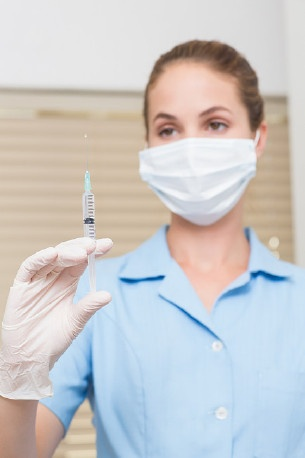Mask: (137, 98, 269, 229)
